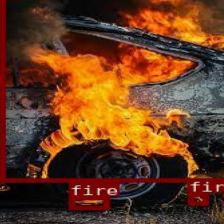fire: (0, 0, 224, 181), (68, 195, 108, 209), (187, 192, 207, 204)
